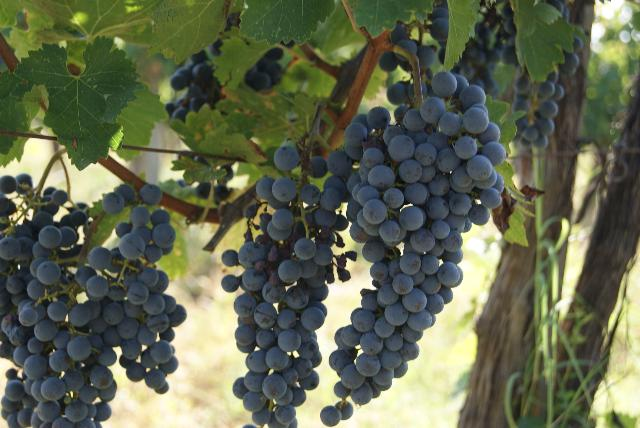grapes: (321, 71, 506, 426), (222, 135, 352, 428), (75, 205, 186, 391), (0, 260, 118, 428), (0, 174, 88, 350)
